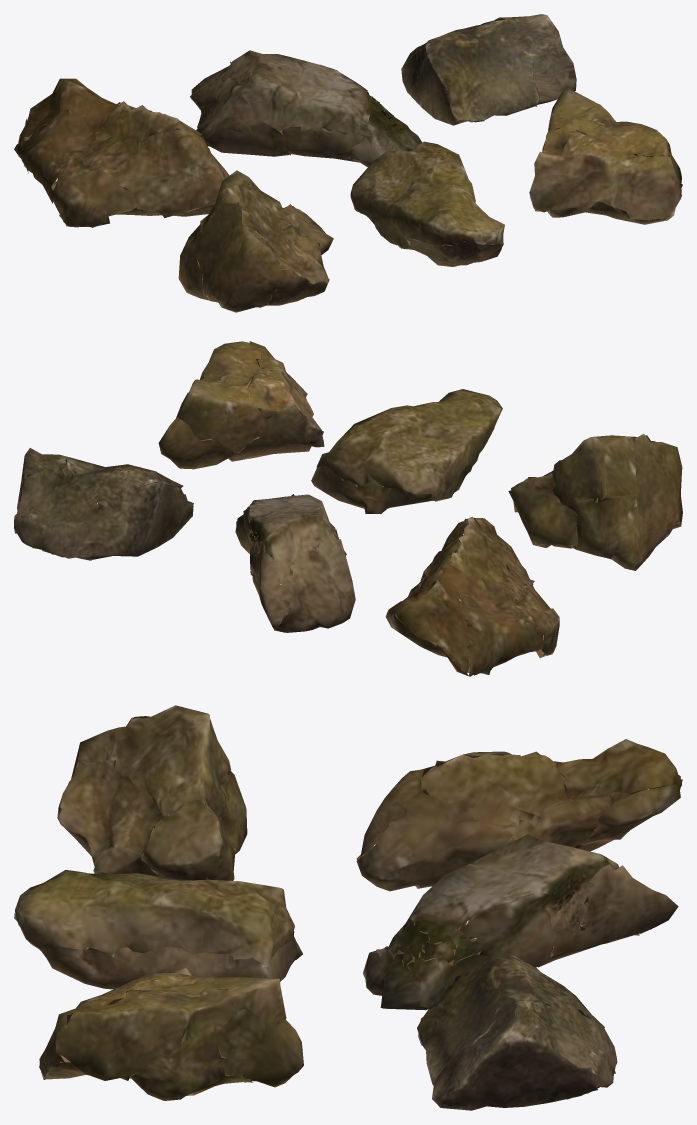
The model's file is rock_moss_set_01.glb.
3 views of the same model, one above another, from view 1: azimuth 30°, elevation 25°; view 2: azimuth 150°, elevation 25°; view 3: azimuth 270°, elevation 25° (orthographic). The views are drawn at different scales.
Parts seen in each view (by area): view 1: rock_moss_set_01_rock01; view 2: rock_moss_set_01_rock01; view 3: rock_moss_set_01_rock01.
Boxes of the visible parts, bbox=[...] form: rock_moss_set_01_rock01: bbox=[14, 14, 682, 312]; rock_moss_set_01_rock01: bbox=[14, 341, 682, 676]; rock_moss_set_01_rock01: bbox=[14, 705, 682, 1110].
Bounding box in the file's own units: 8.04 × 1.78 × 6.95.
1 material, 1 textured.
